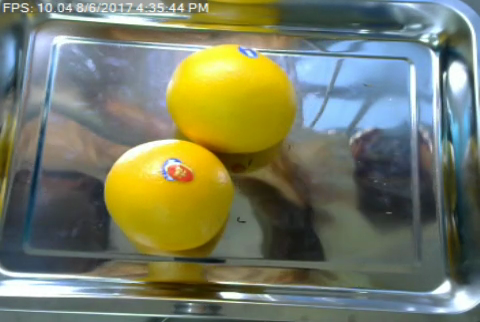Orange: (100, 136, 233, 250), (163, 43, 296, 148)
